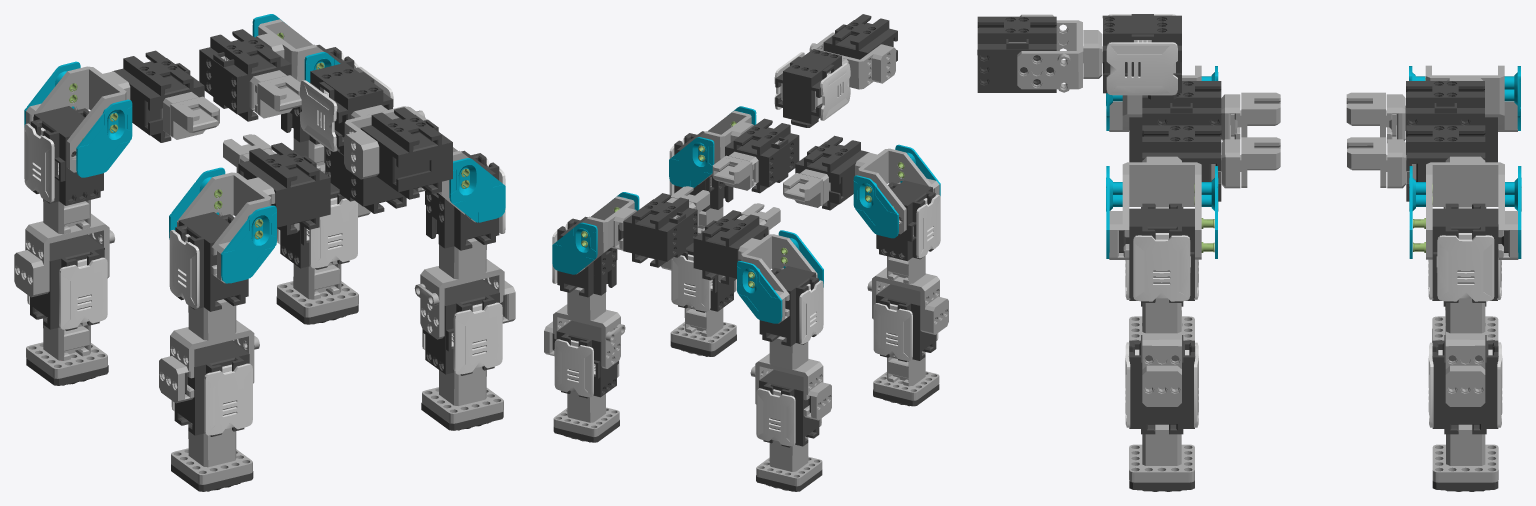
File: xiniu_G.fbx
3 renders of one model, left to right at view 1: azimuth 30°, elevation 25°; view 2: azimuth 150°, elevation 25°; view 3: azimuth 270°, elevation 25°, orthographic. The views are drawn at different scales.
Visible parts, largest first — view 1: xiniu_youhuo, xiniu_youqian, xiniu_zuoqian, xiniu_zuohuo, xiniu_tou; view 2: xiniu_youqian, xiniu_youhuo, xiniu_zuohuo, xiniu_zuoqian, xiniu_tou; view 3: xiniu_zuohuo, xiniu_zuoqian, xiniu_tou, xiniu_youhuo, xiniu_youqian.
Part boxes in pixels (x1,y1,x2,y2): xiniu_youhuo: [14, 50, 219, 385]; xiniu_youqian: [159, 134, 330, 491]; xiniu_zuoqian: [310, 135, 515, 430]; xiniu_zuohuo: [199, 14, 370, 324]; xiniu_tou: [299, 62, 452, 199]; xiniu_youqian: [783, 135, 948, 406]; xiniu_youhuo: [693, 203, 831, 491]; xiniu_zuohuo: [544, 186, 709, 442]; xiniu_zuoqian: [661, 106, 799, 356]; xiniu_tou: [774, 14, 897, 127]; xiniu_zuohuo: [1347, 125, 1521, 491]; xiniu_zuoqian: [1106, 125, 1280, 491]; xiniu_tou: [977, 14, 1181, 99]; xiniu_youhuo: [1346, 65, 1520, 342]; xiniu_youqian: [1106, 65, 1280, 341].
Size of the model in its own units: 186 by 200 by 248.
